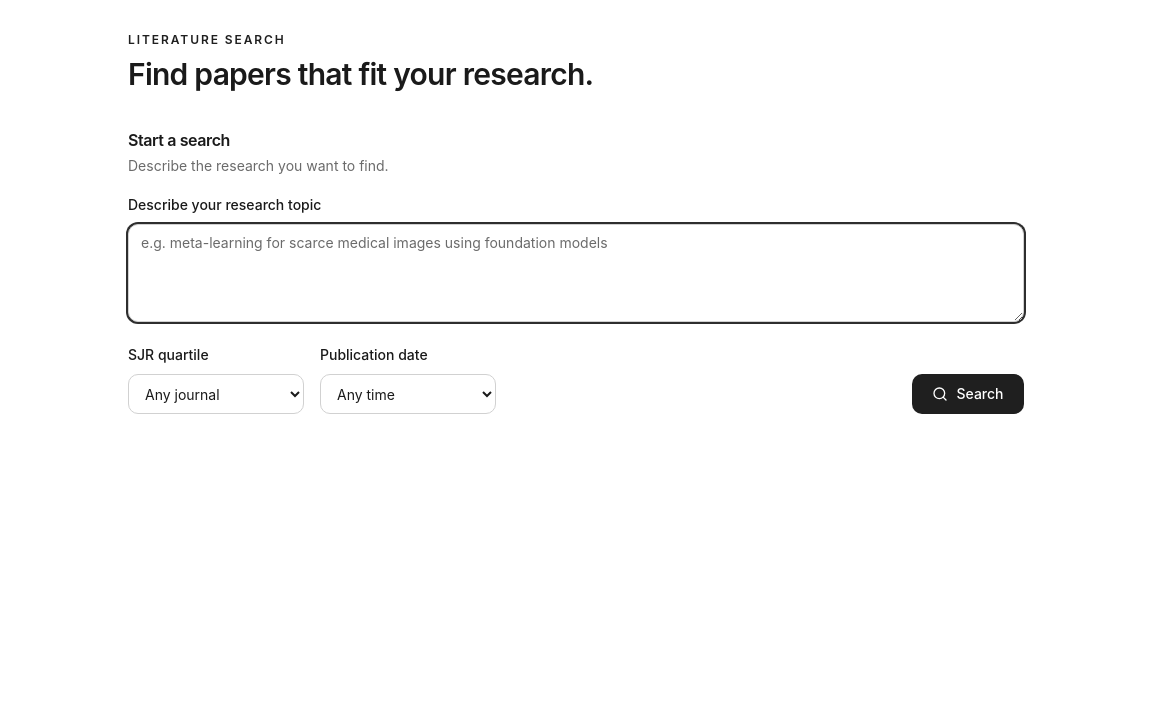
Test: App › keeps works without abstracts visible without an abstract warning
Type "climate adaptation strategies for resilient cities under increasingly severe weather events" into the text box labelled "Describe your research topic".
click(576, 273); type("climate adaptation strategies for resilient cities under increasingly severe weather events")  # box x1=128 y1=224 x2=1024 y2=322
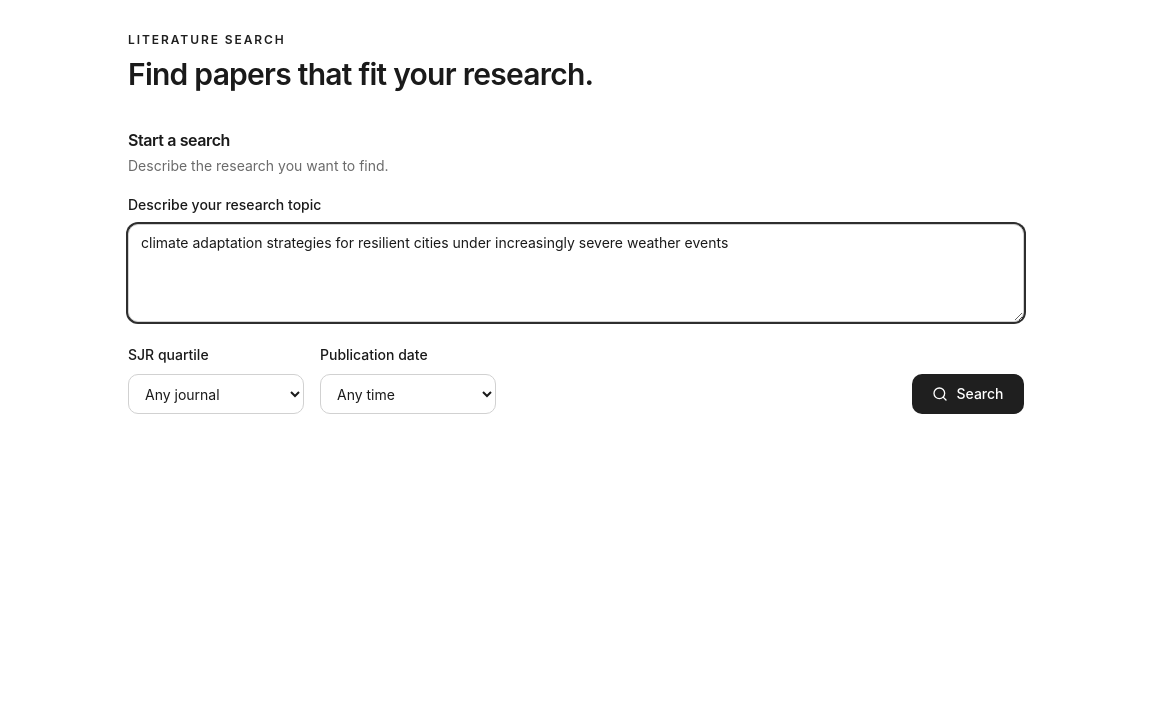
Click the button "Search".
click(968, 394)  # box x1=912 y1=374 x2=1024 y2=414
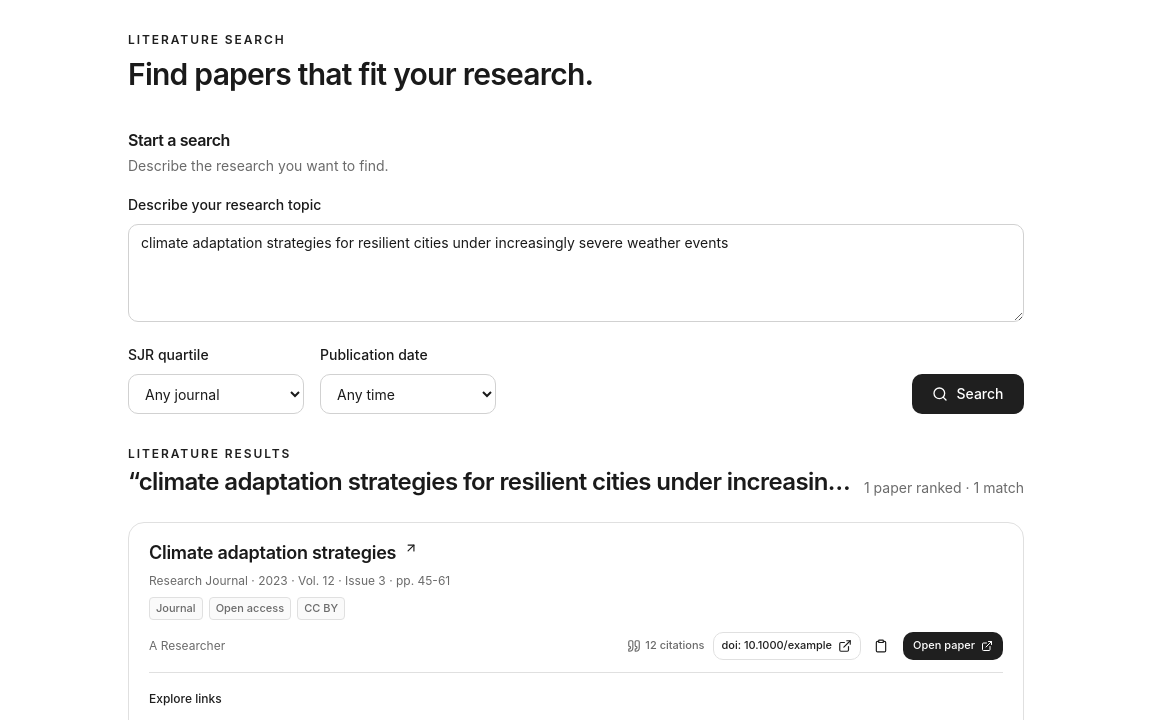
Check: the heading "Climate adaptation strategies" is shown, box x1=149 y1=541 x2=418 y2=563
